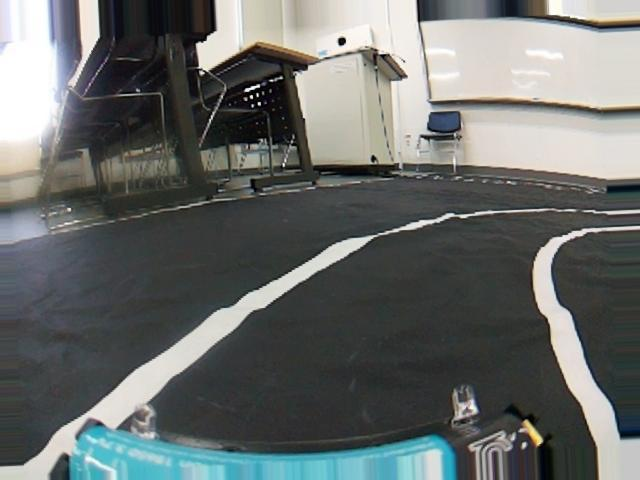right: (6, 197, 640, 480)
